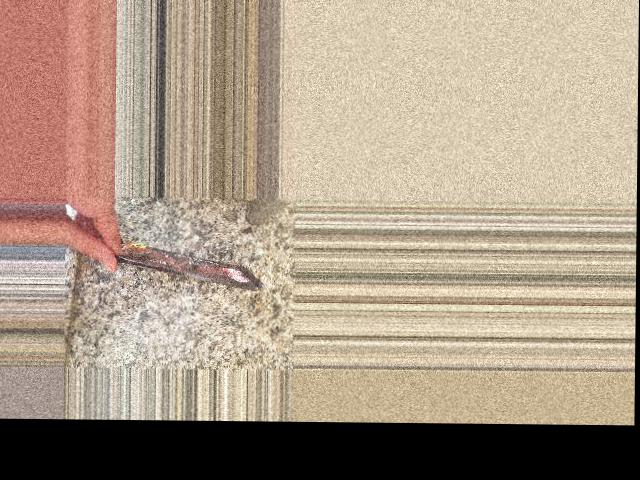chocolate: (96, 231, 262, 299)
